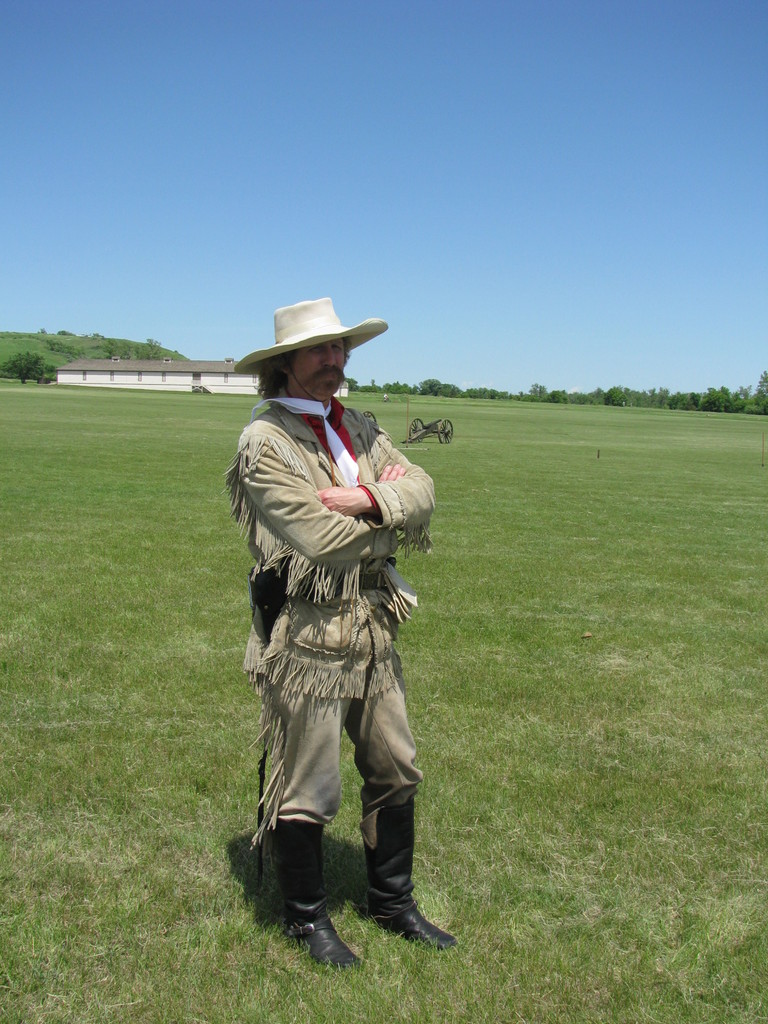Human_hand: (317, 485, 373, 516), (376, 463, 405, 485)
